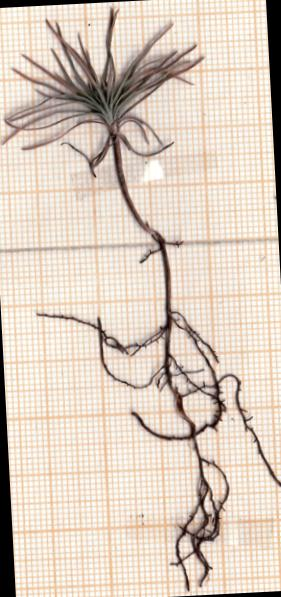flower: (0, 0, 211, 179)
root: (26, 232, 281, 597)
stem: (110, 142, 168, 243)
